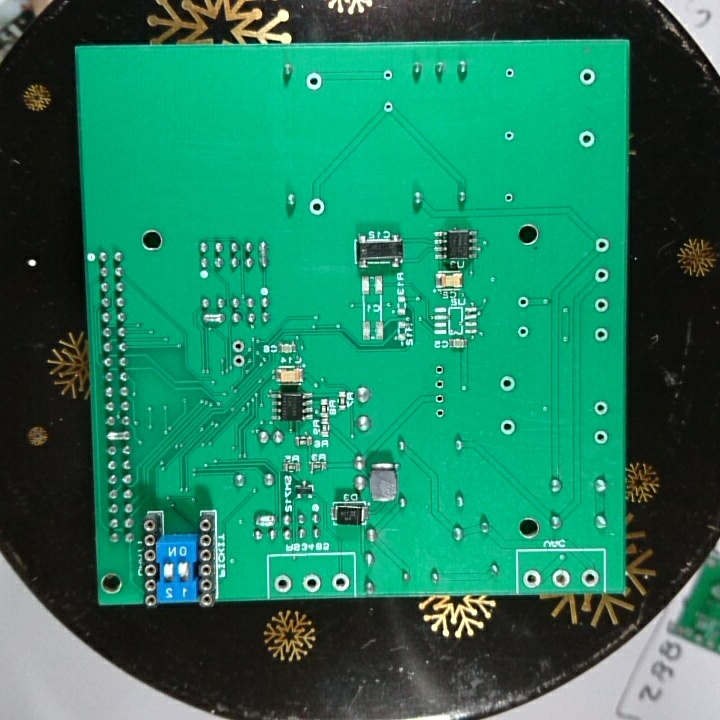F: (548, 566, 573, 590), (271, 572, 294, 597), (299, 573, 325, 595), (577, 64, 597, 91), (301, 71, 325, 93), (579, 566, 601, 590), (576, 129, 598, 152), (497, 372, 518, 396), (306, 196, 328, 218), (330, 570, 352, 592), (591, 263, 612, 286), (592, 236, 612, 258), (591, 398, 611, 420), (497, 416, 517, 438), (522, 569, 542, 589), (592, 427, 610, 448), (592, 326, 610, 346), (514, 293, 532, 312), (593, 295, 610, 315), (514, 323, 531, 343), (229, 337, 247, 354), (231, 352, 248, 370), (502, 65, 517, 81), (501, 128, 517, 143), (433, 361, 447, 378), (501, 190, 515, 206), (381, 98, 394, 115), (381, 66, 394, 83), (432, 406, 447, 420), (433, 378, 447, 392), (433, 392, 447, 406)
P: (199, 309, 226, 330), (251, 512, 278, 529), (102, 429, 134, 443), (257, 238, 269, 270)
